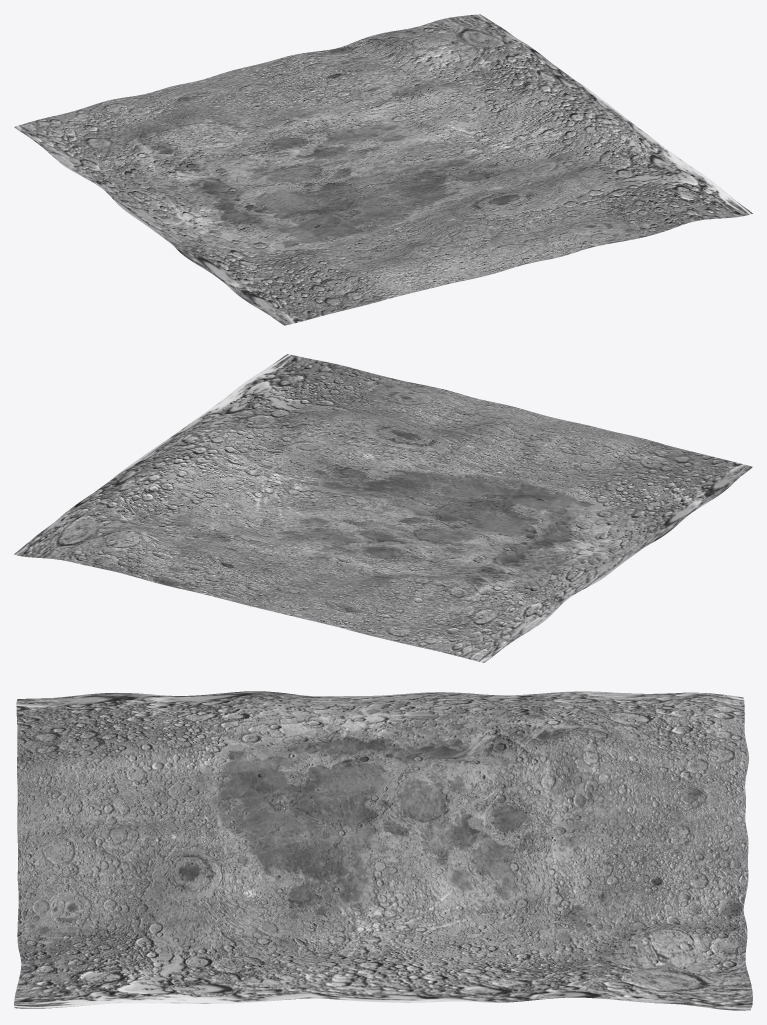
File: Terrain.obj
3 renders of one model, top to bottom at view 1: azimuth 30°, elevation 25°; view 2: azimuth 150°, elevation 25°; view 3: azimuth 270°, elevation 25°, orthographic. The views are drawn at different scales.
Visible parts, largest first — view 1: Plane_Plane_Material.001_terrain_1024.jpg; view 2: Plane_Plane_Material.001_terrain_1024.jpg; view 3: Plane_Plane_Material.001_terrain_1024.jpg.
Boxes of the visible parts, x1,y1,x2,y2 form: Plane_Plane_Material.001_terrain_1024.jpg: (14,14,752,325); Plane_Plane_Material.001_terrain_1024.jpg: (14,354,752,662); Plane_Plane_Material.001_terrain_1024.jpg: (14,691,752,1010).
Size of the model in its own units: 2.03 by 0.084 by 2.03.
1 material, 1 textured.
